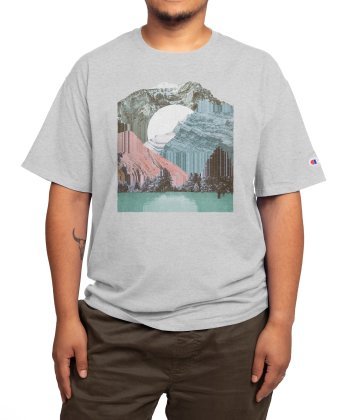design: (113, 79, 237, 216)
